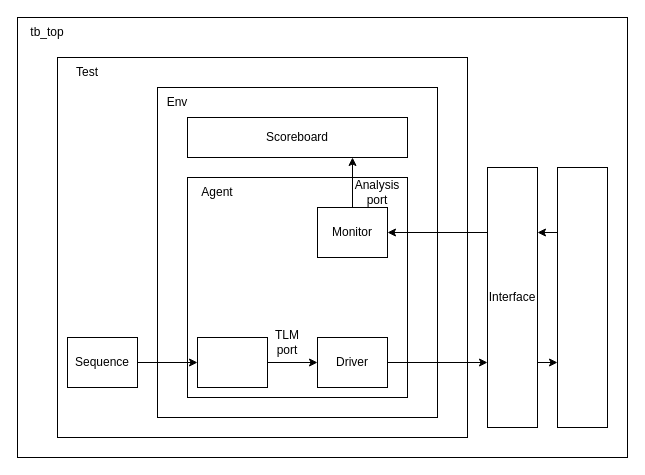
The diagram is 645 pixels wide and 475 high, and some of its shapes have lost their labels. Each missing label, with the centre of its shape:
DUT: the point at 582,297
Sequencer: the point at 232,362
